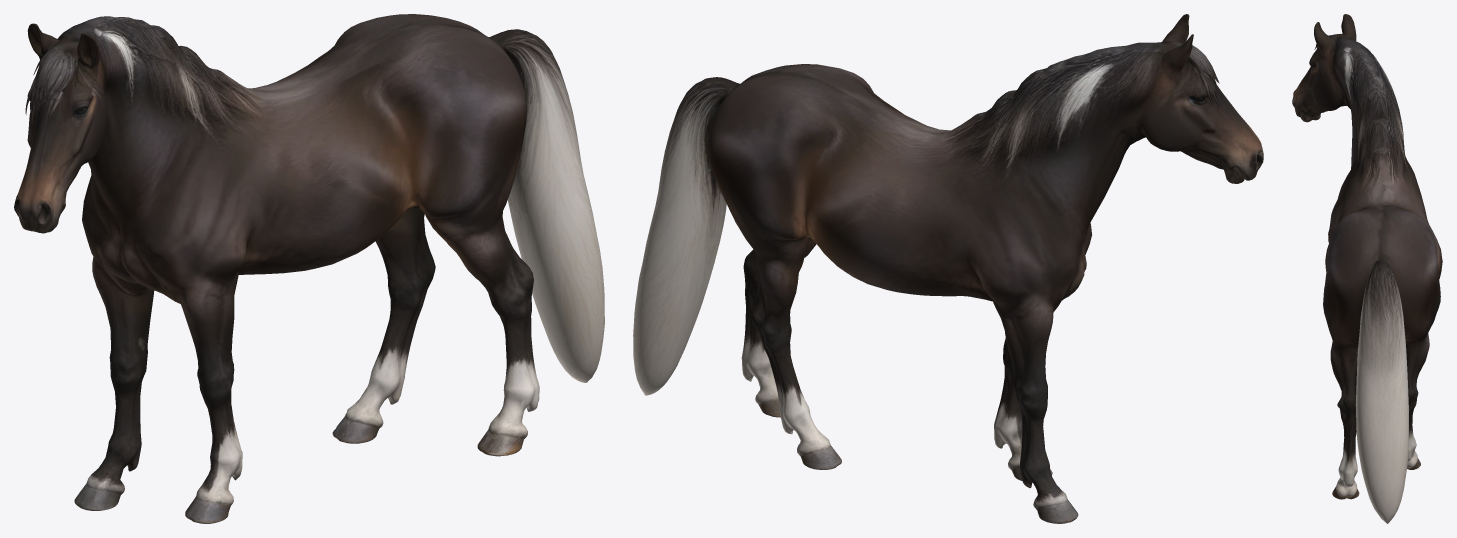
3 renders of one model, left to right at view 1: azimuth 30°, elevation 25°; view 2: azimuth 150°, elevation 25°; view 3: azimuth 270°, elevation 25°, orthographic. The views are drawn at different scales.
Visible parts, largest first — view 1: node_0; view 2: node_0; view 3: node_0.
Part boxes in pixels (x1,y1,x2,y2): node_0: [14, 14, 604, 523]; node_0: [633, 14, 1263, 523]; node_0: [1292, 14, 1442, 523].
Size of the model in its own units: 0.9724 by 0.7761 by 0.3132.
Materials: 1 (1 with a texture image).
